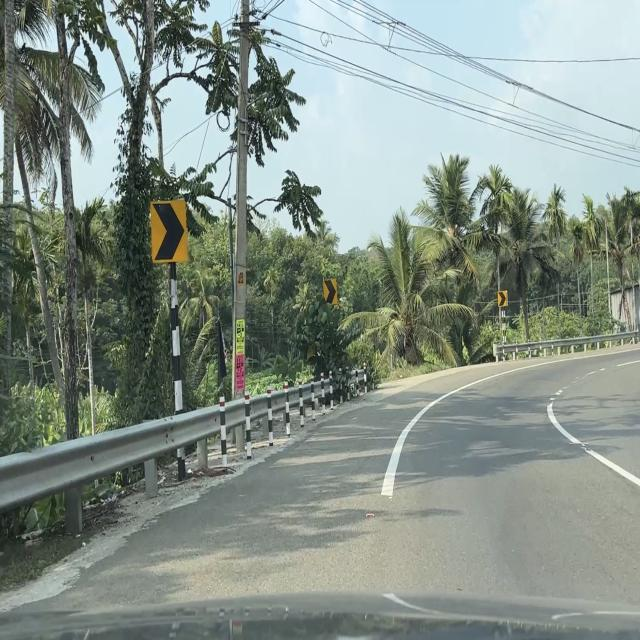TURN_RIGHT: (150, 199, 189, 264), (323, 278, 338, 306), (498, 290, 507, 308)
